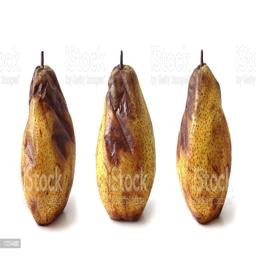Pear Rotten: (170, 52, 244, 225), (92, 49, 158, 217), (17, 48, 78, 224)
